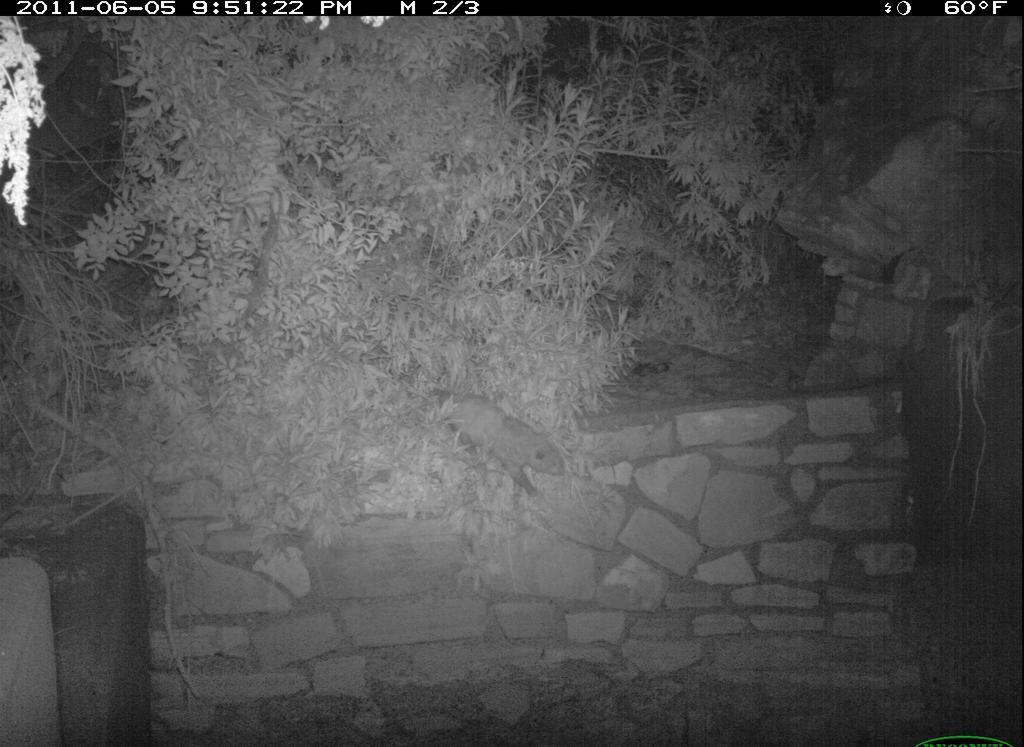opossum: (424, 383, 574, 511)
